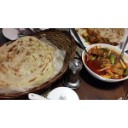parota: (3, 38, 53, 84)
